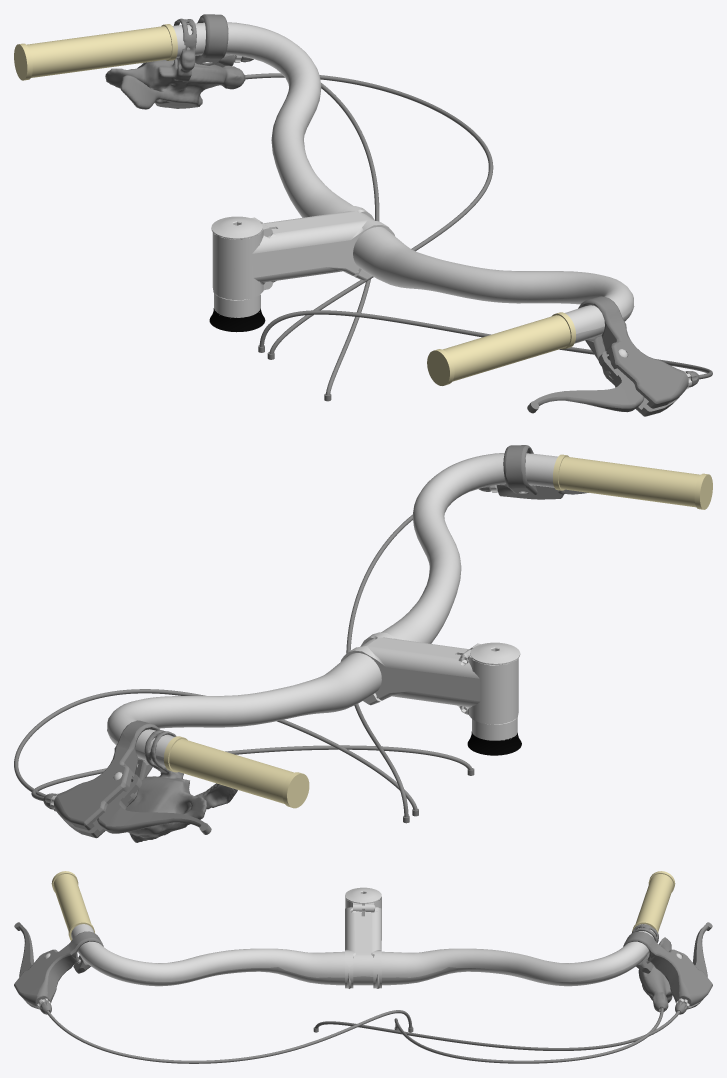
File: Handle7_Jeb_Shifter.glb
3 views of the same model, one above another, from view 1: azimuth 30°, elevation 25°; view 2: azimuth 150°, elevation 25°; view 3: azimuth 270°, elevation 25° (orthographic). The views are drawn at different scales.
Parts seen in each view (by area): view 1: no_transformations (×6); view 2: no_transformations (×6); view 3: no_transformations (×5).
Part boxes in pixels (<box>): no_transformations (×6): <box>14,14,712,416</box>; no_transformations (×6): <box>14,445,712,842</box>; no_transformations (×5): <box>14,871,712,1063</box>.
Size of the model in its own units: 289 by 145 by 665.
